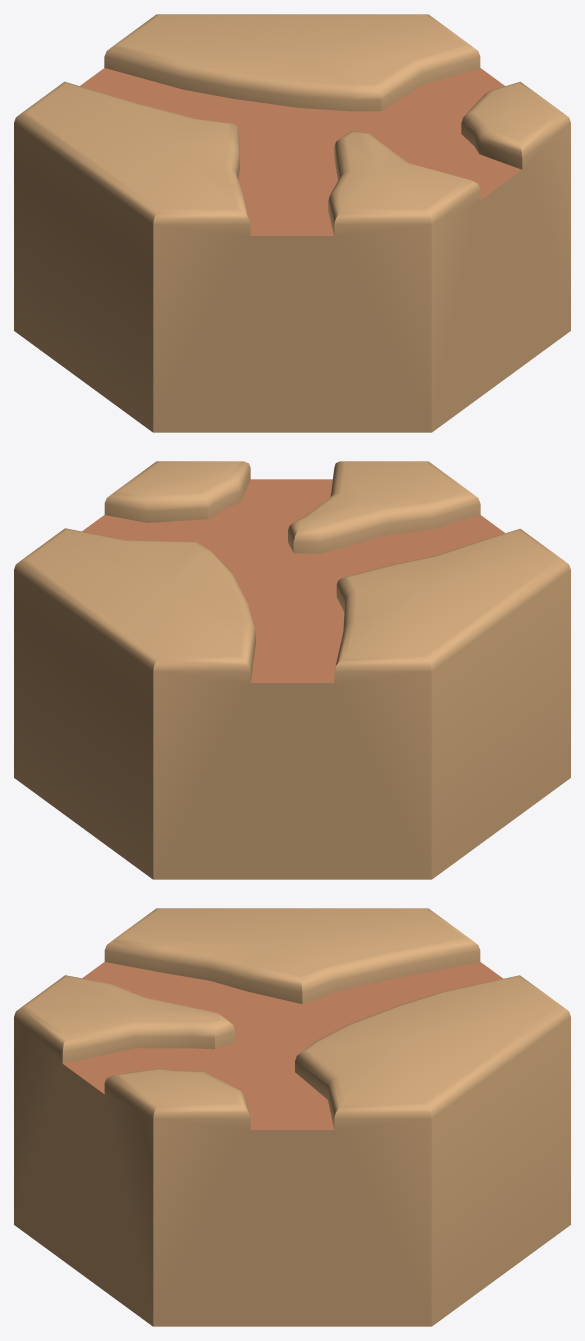
The model's file is kaykit-hex-sand-roadi.glb.
The picture shows the model from 3 angles, top to bottom: view 1: azimuth 30°, elevation 25°; view 2: azimuth 150°, elevation 25°; view 3: azimuth 270°, elevation 25°; orthographic projection.
Parts seen in each view (by area): view 1: hex_sand_roadI; view 2: hex_sand_roadI; view 3: hex_sand_roadI.
Boxes of the visible parts, bbox=[...] form: hex_sand_roadI: bbox=[14, 14, 570, 432]; hex_sand_roadI: bbox=[14, 461, 570, 879]; hex_sand_roadI: bbox=[14, 908, 570, 1326].
Size of the model in its own units: 2 by 1 by 2.31.
